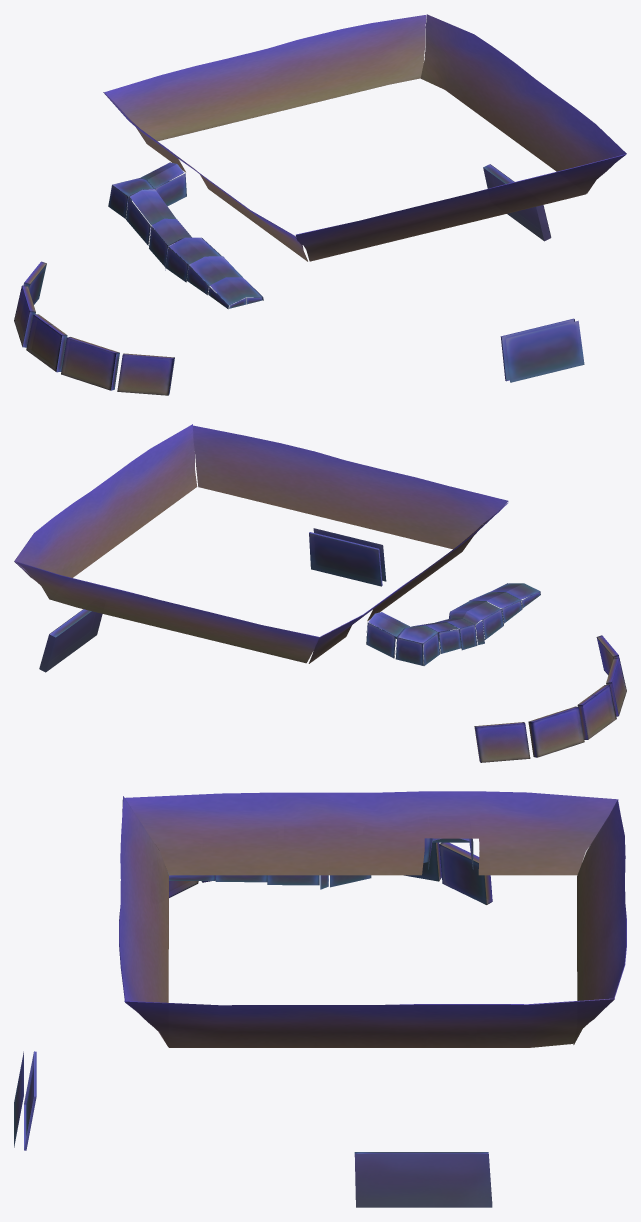
Rendered from station_runway_100m_glass.DAE.
3 views of the same model, one above another, from view 1: azimuth 30°, elevation 25°; view 2: azimuth 150°, elevation 25°; view 3: azimuth 270°, elevation 25° (orthographic). The views are drawn at different scales.
Visible parts, largest first — view 1: Box03, Object02; view 2: Box03, Object02; view 3: Box03, Object02.
Boxes of the visible parts, x1=… form: Box03: x1=103, y1=14, x2=626, y2=309; Object02: x1=14, y1=164, x2=584, y2=395; Box03: x1=14, y1=424, x2=540, y2=665; Object02: x1=39, y1=528, x2=626, y2=762; Box03: x1=119, y1=791, x2=626, y2=1047; Object02: x1=14, y1=842, x2=492, y2=1207.
Size of the model in its own units: 115 by 33.92 by 92.07.
